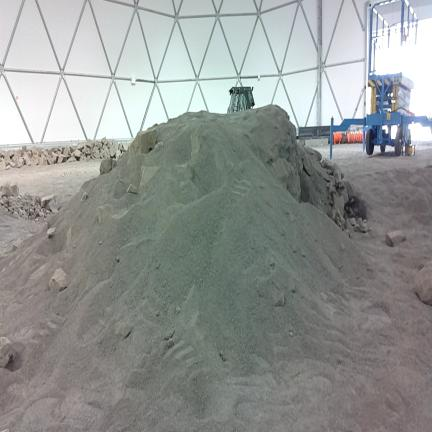Rock: (414, 260, 432, 306), (130, 128, 157, 156), (0, 337, 16, 367), (49, 269, 67, 290), (115, 322, 133, 339), (386, 230, 405, 246), (41, 194, 59, 210), (0, 182, 19, 197), (100, 159, 117, 175), (334, 164, 343, 186), (127, 184, 137, 193), (39, 154, 47, 165), (110, 143, 116, 157), (47, 228, 55, 238), (57, 155, 67, 163), (73, 150, 81, 160), (24, 154, 31, 165), (81, 192, 88, 202), (86, 140, 94, 148), (357, 218, 363, 227), (9, 151, 14, 159), (35, 208, 39, 216), (6, 165, 11, 170)
